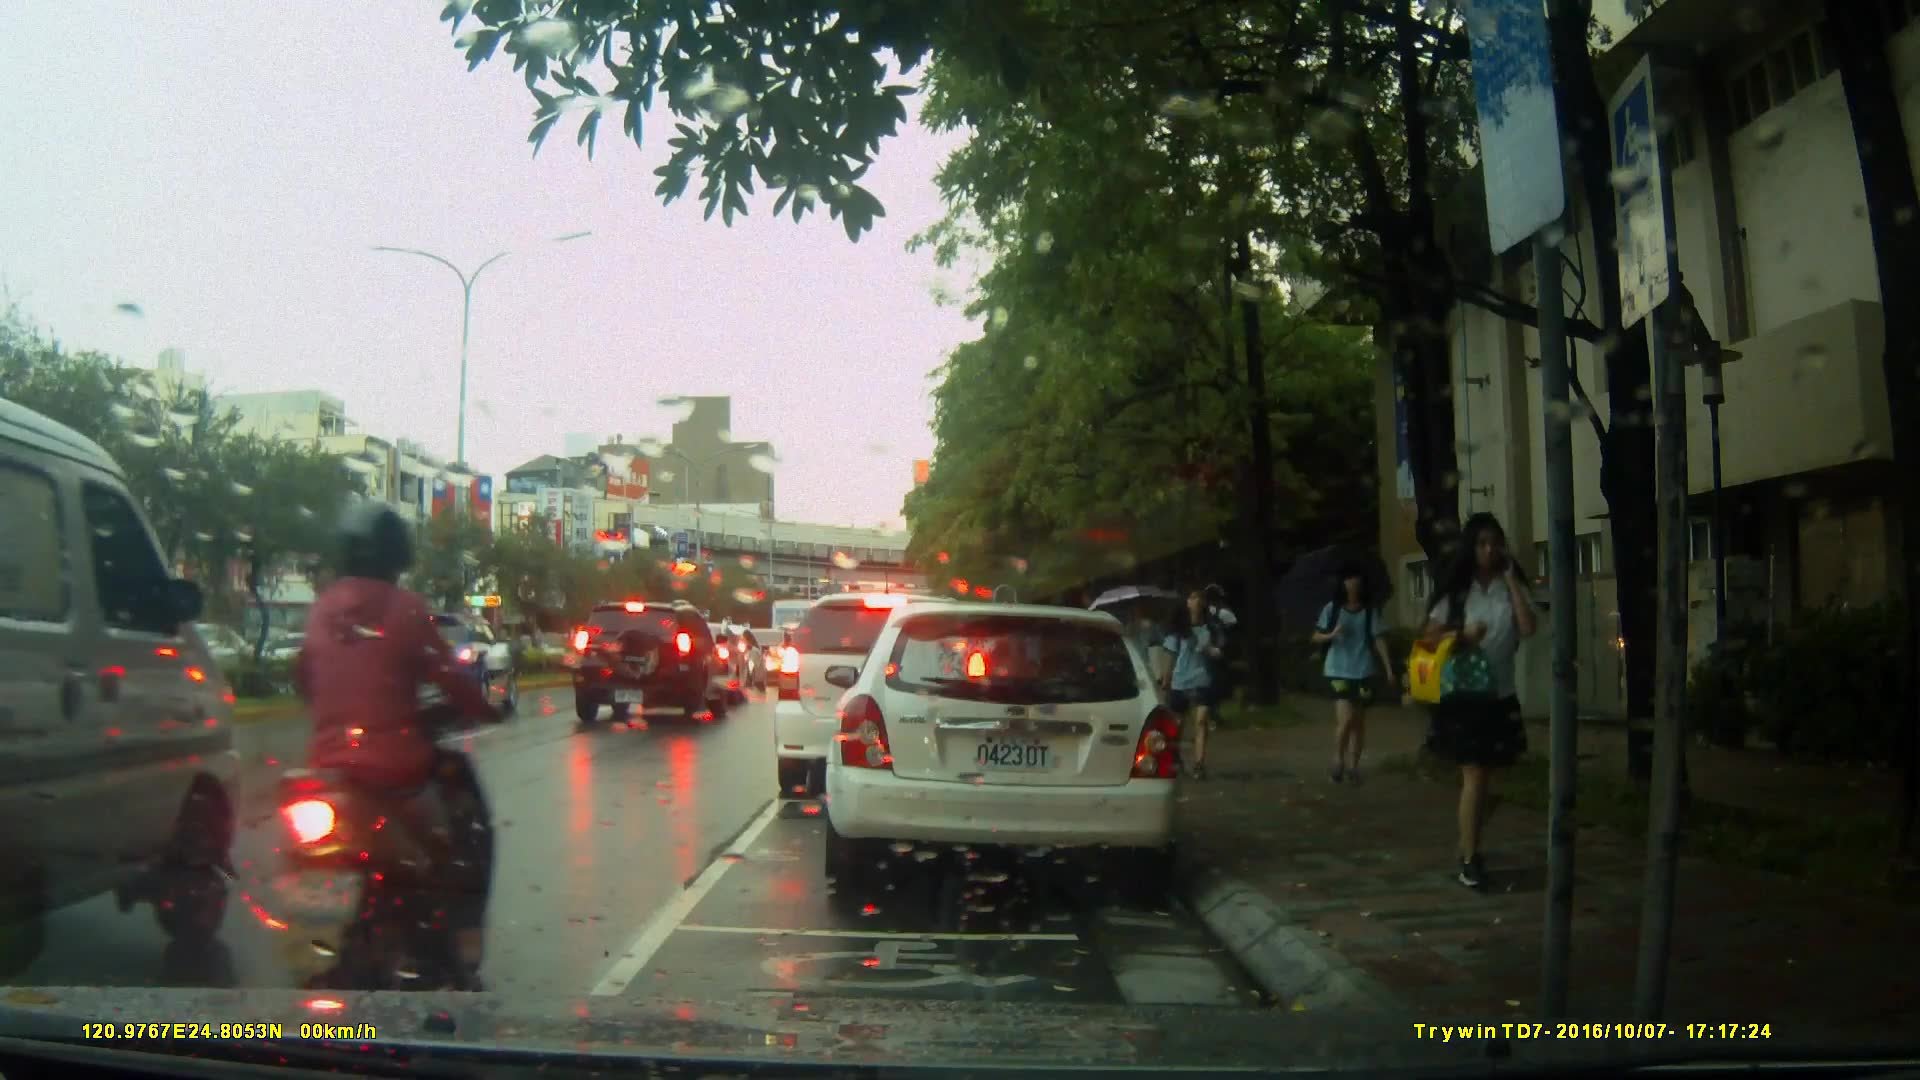pedestrian: (1434, 502, 1551, 883), (1308, 560, 1383, 793), (1169, 566, 1245, 764), (1891, 481, 1917, 930)
rider: (259, 498, 504, 1013)
vehicle: (1, 390, 282, 977), (815, 593, 1204, 909), (771, 590, 994, 802), (569, 600, 733, 725), (370, 613, 525, 718)
